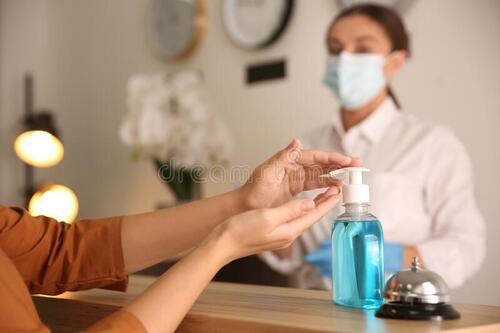sanitizer: (327, 165, 388, 308)
